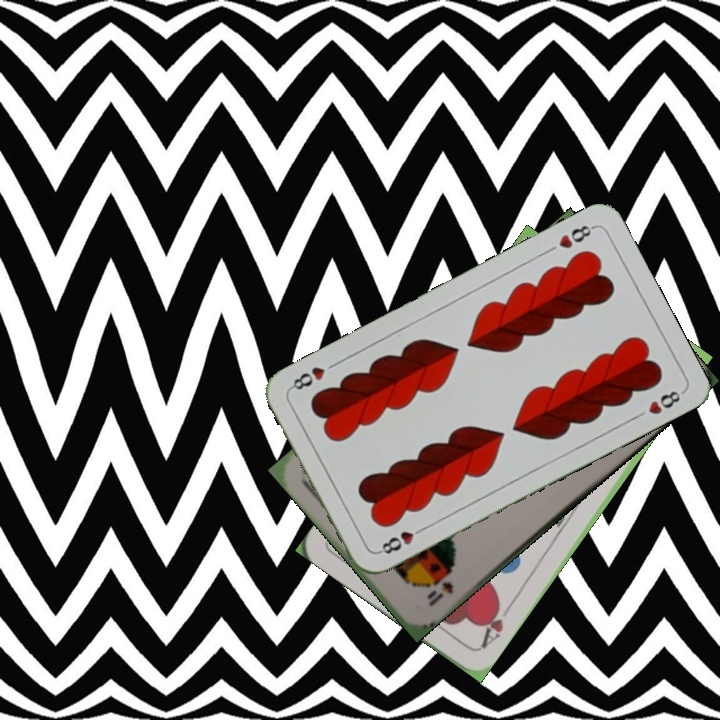H8: (374, 522, 429, 557), (554, 221, 598, 251)
HA: (476, 598, 515, 651)
SO: (423, 566, 456, 610)
